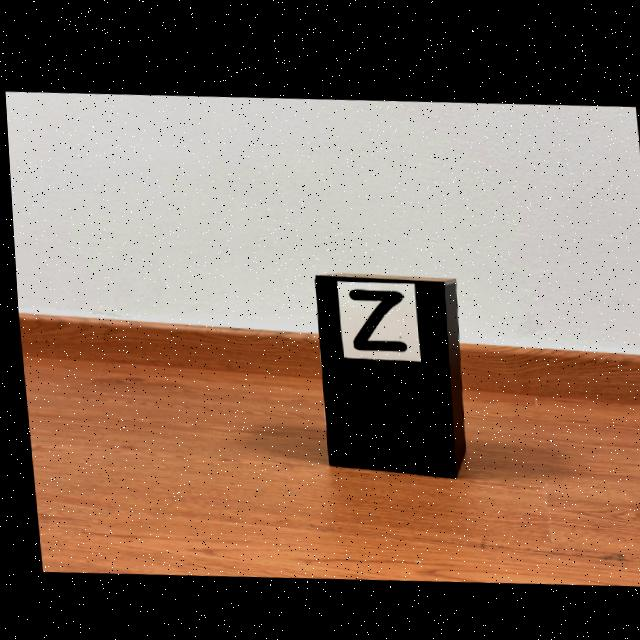Z: (346, 285, 403, 347)
